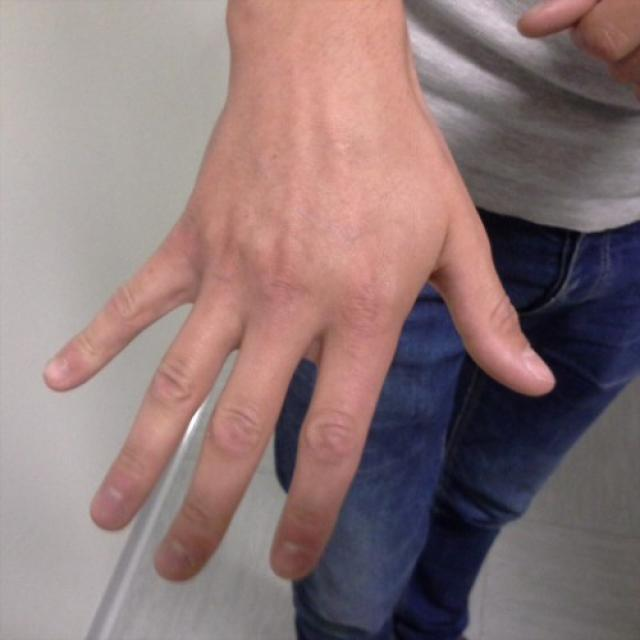paper: (42, 62, 562, 584)
